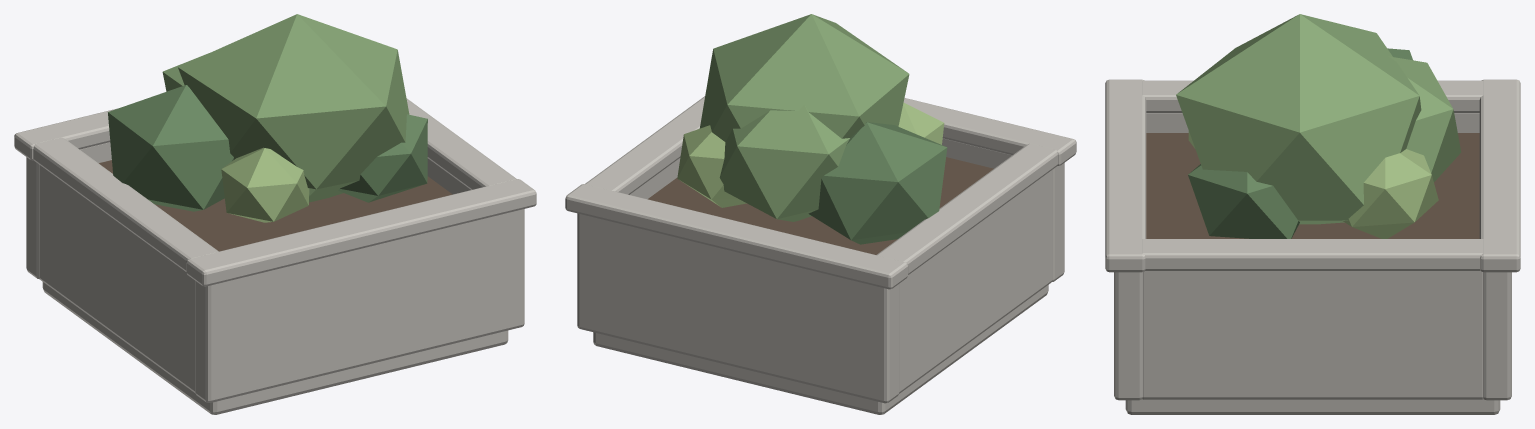
Rendered from planter.glb.
3 renders of one model, left to right at view 1: azimuth 30°, elevation 25°; view 2: azimuth 150°, elevation 25°; view 3: azimuth 270°, elevation 25°, orthographic. The views are drawn at different scales.
Visible parts, largest first — view 1: planter; view 2: planter; view 3: planter.
Boxes of the visible parts, x1,y1,x2,y2 form: planter: [14, 14, 536, 414]; planter: [565, 14, 1076, 414]; planter: [1105, 14, 1520, 414].
Bounding box in the file's own units: 1.28 × 1.12 × 1.26.
